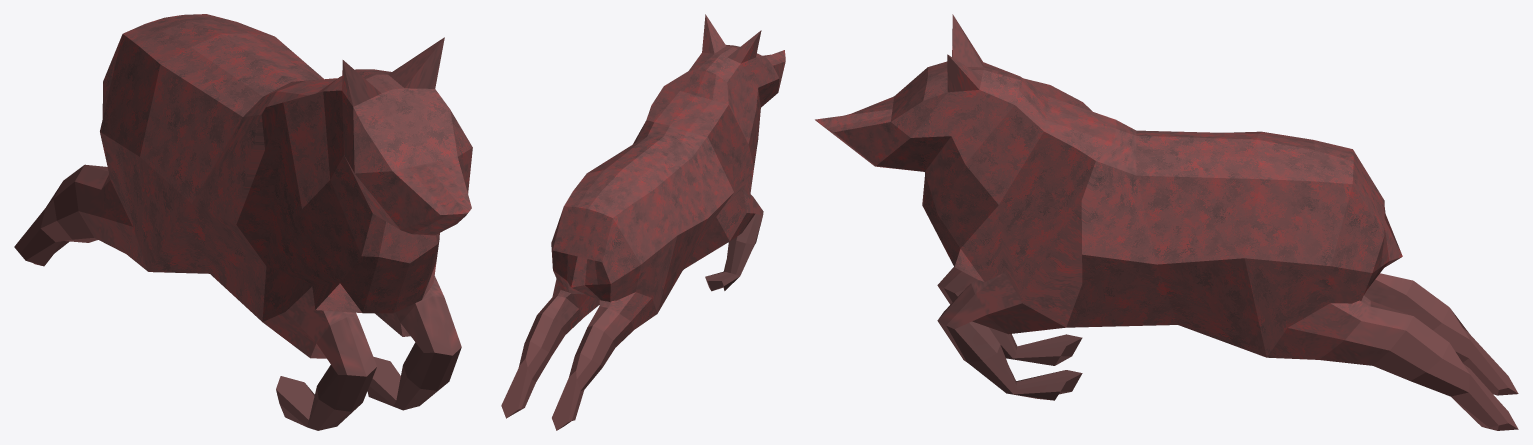
File: piesblend_000016.obj
3 views of the same model, side by side, from view 1: azimuth 30°, elevation 25°; view 2: azimuth 150°, elevation 25°; view 3: azimuth 270°, elevation 25° (orthographic). The views are drawn at different scales.
Visible parts, largest first — view 1: Cube; view 2: Cube; view 3: Cube.
Boxes of the visible parts, bbox=[...] form: Cube: bbox=[14, 14, 472, 430]; Cube: bbox=[501, 14, 785, 430]; Cube: bbox=[815, 14, 1518, 430].
Bounding box in the file's own units: 2.56 × 6.2 × 10.53.
1 material, 1 textured.
